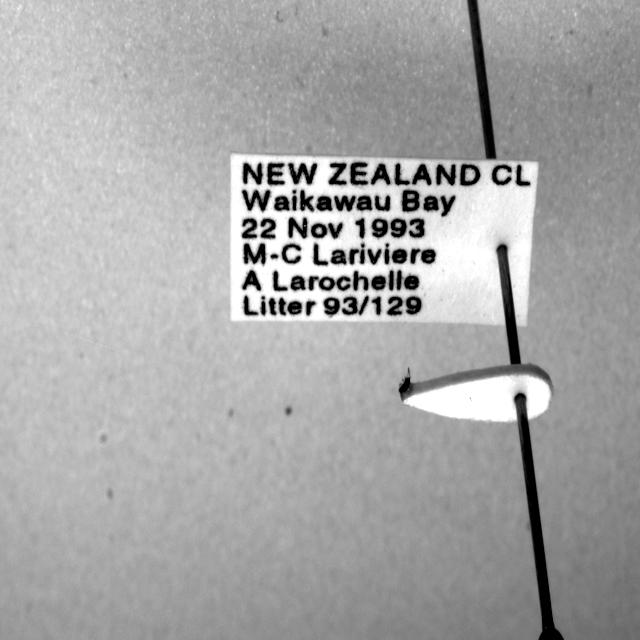typed_label: (231, 154, 539, 326)
